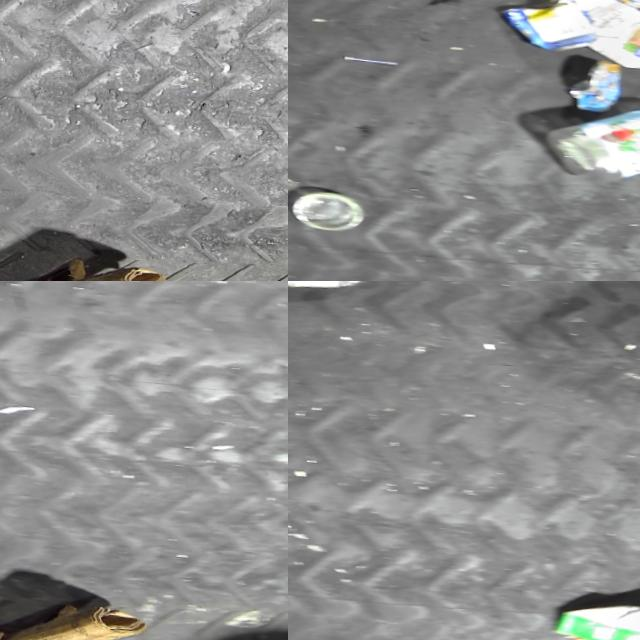can: (492, 0, 598, 57), (560, 59, 622, 117), (288, 187, 362, 235)
milk_jug: (535, 0, 640, 76)
plastic_bottle: (533, 90, 640, 198), (288, 281, 396, 300)
